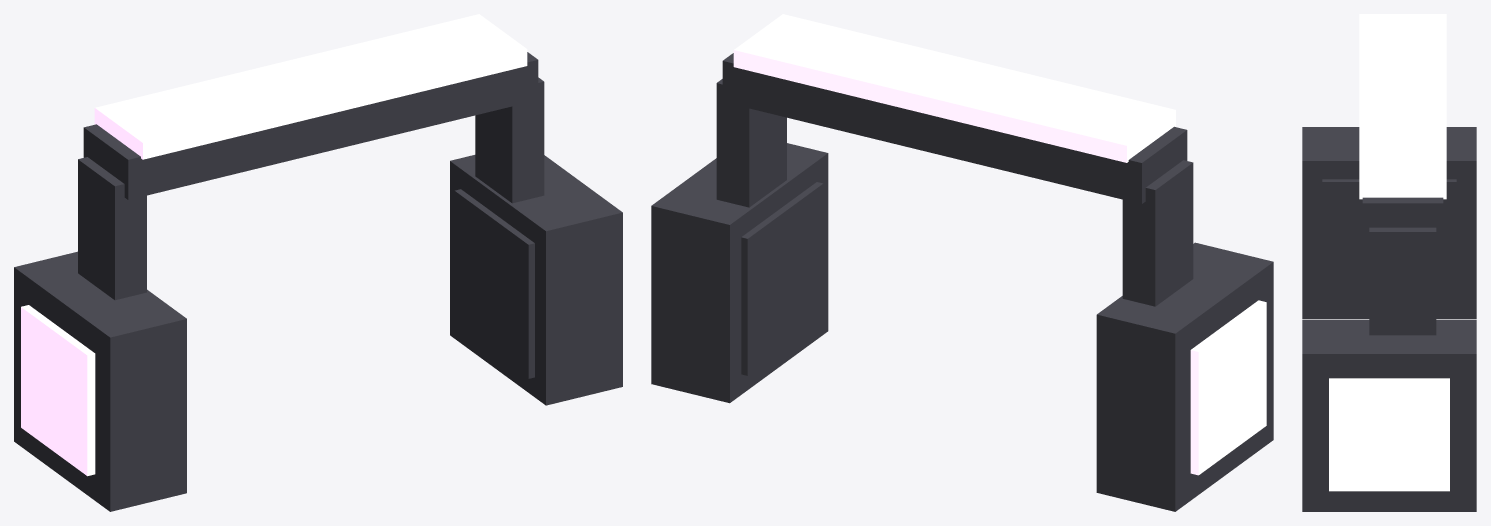
File: fones_dj_neon.glb
The picture shows the model from 3 angles, left to right: view 1: azimuth 30°, elevation 25°; view 2: azimuth 150°, elevation 25°; view 3: azimuth 270°, elevation 25°; orthographic projection. The views are drawn at different scales.
Parts seen in each view (by area): view 1: fones_dj_neon; view 2: fones_dj_neon; view 3: fones_dj_neon.
Part boxes in pixels (left/top/right/bottom): fones_dj_neon: left=14, top=14, right=622, bottom=511; fones_dj_neon: left=651, top=14, right=1273, bottom=511; fones_dj_neon: left=1302, top=14, right=1476, bottom=511.
Size of the model in its own units: 0.825 by 0.4925 by 0.26.
